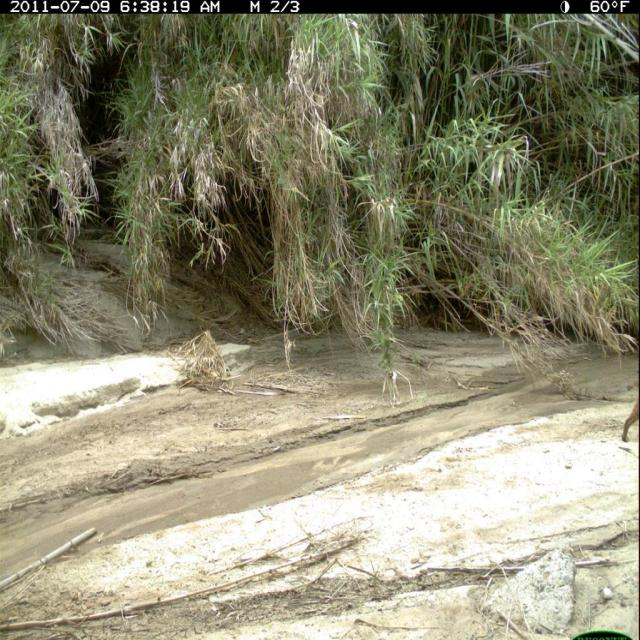bobcat: (619, 364, 640, 445)
